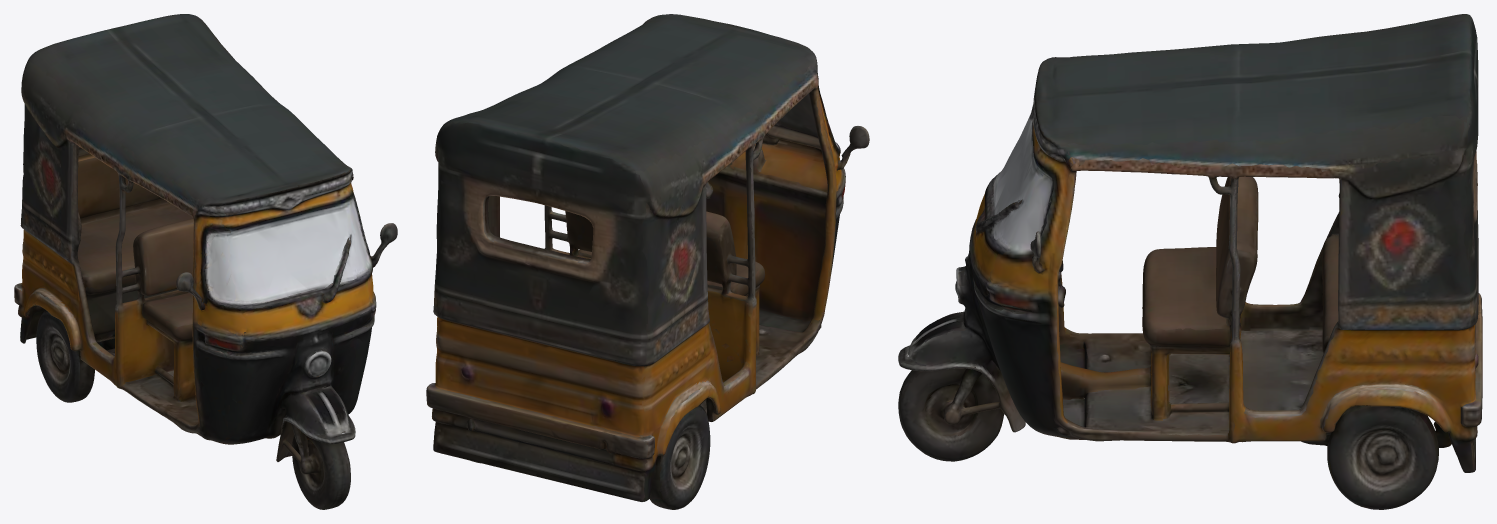
Rendered from traffic_rickshaw_green.mobile.glb.
3 views of the same model, side by side, from view 1: azimuth 30°, elevation 25°; view 2: azimuth 150°, elevation 25°; view 3: azimuth 270°, elevation 25° (orthographic). The views are drawn at different scales.
Visible parts, largest first — view 1: geometry_0; view 2: geometry_0; view 3: geometry_0.
Boxes of the visible parts, <box> form: geometry_0: <box>14,14,397,509</box>; geometry_0: <box>426,14,869,509</box>; geometry_0: <box>898,14,1482,509</box>.
Bounding box in the file's own units: 0.5408 × 0.7616 × 1.
1 material, 1 textured.
